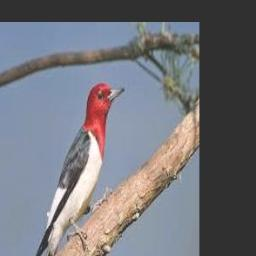Woodpecker: (35, 82, 125, 256)
